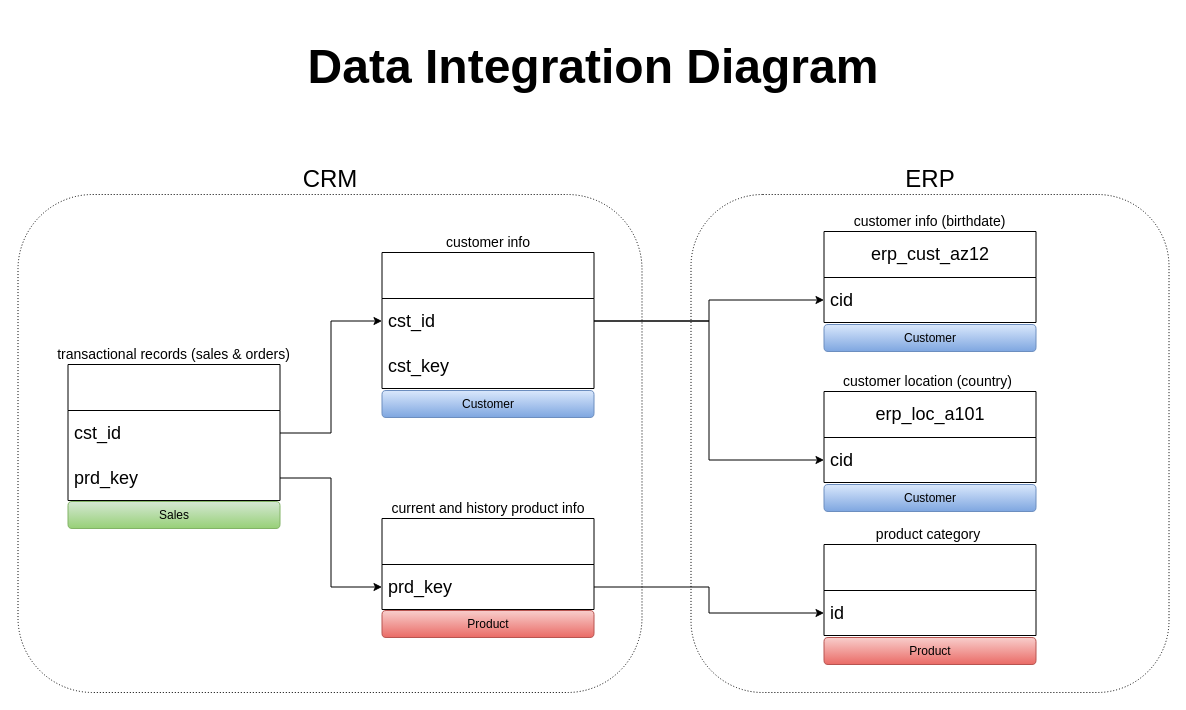
Some shapes in this 1186 by 710 pixel diagram are drawn without their labels. Here are the shapes that lost their labels. From the top down, the box of each, then its label:
(381, 252, 594, 388): crm_cust_info
(67, 364, 280, 500): crm_sales_details
(381, 518, 594, 610): crm_prd_info
(823, 544, 1036, 636): erp_px_cat_g1v2
